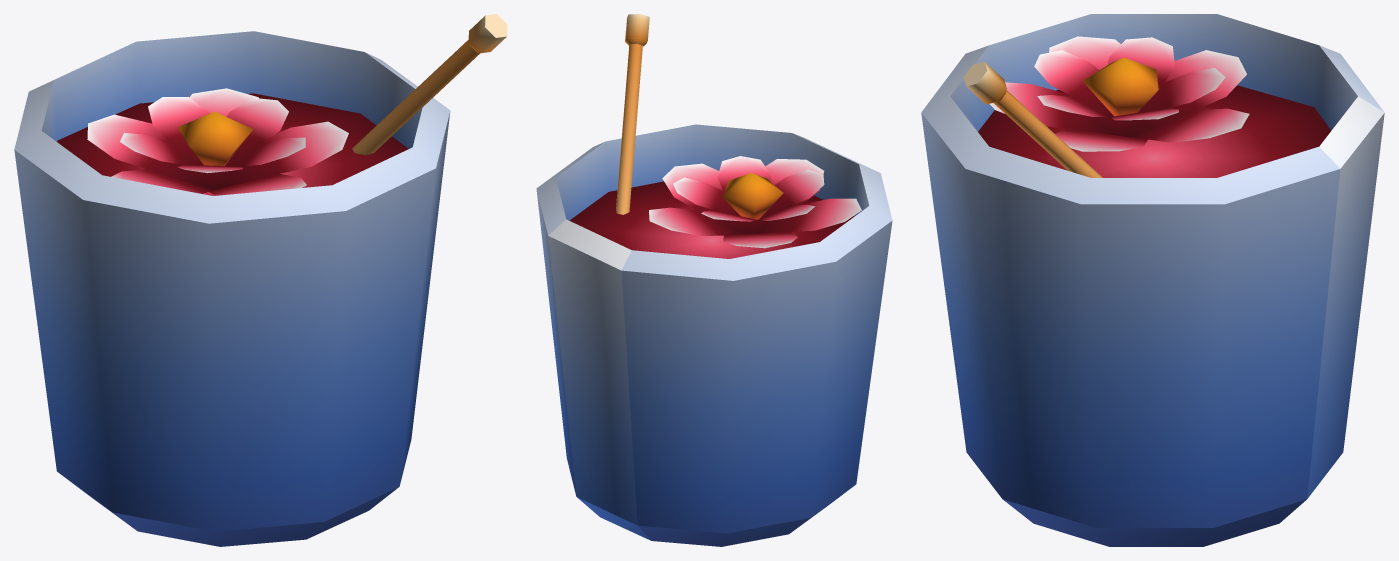
Rendered from m_FloralCocktail02.fbx.
3 views of the same model, side by side, from view 1: azimuth 30°, elevation 25°; view 2: azimuth 150°, elevation 25°; view 3: azimuth 270°, elevation 25° (orthographic). The views are drawn at different scales.
Parts seen in each view (by area): view 1: m_FloralCocktail02; view 2: m_FloralCocktail02; view 3: m_FloralCocktail02.
Part boxes in pixels (<box>): m_FloralCocktail02: <box>14,14,507,546</box>; m_FloralCocktail02: <box>536,14,892,546</box>; m_FloralCocktail02: <box>921,14,1384,546</box>.
Bounding box in the file's own units: 12.6 × 15.74 × 12.98.
